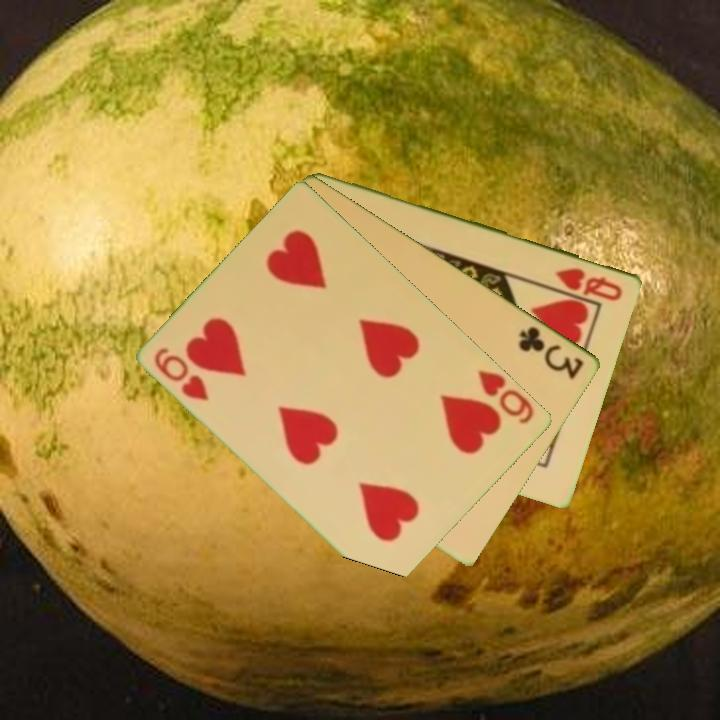3c: (515, 322, 587, 382)
6h: (475, 366, 538, 427), (151, 343, 212, 404)
Qh: (552, 263, 626, 304)
